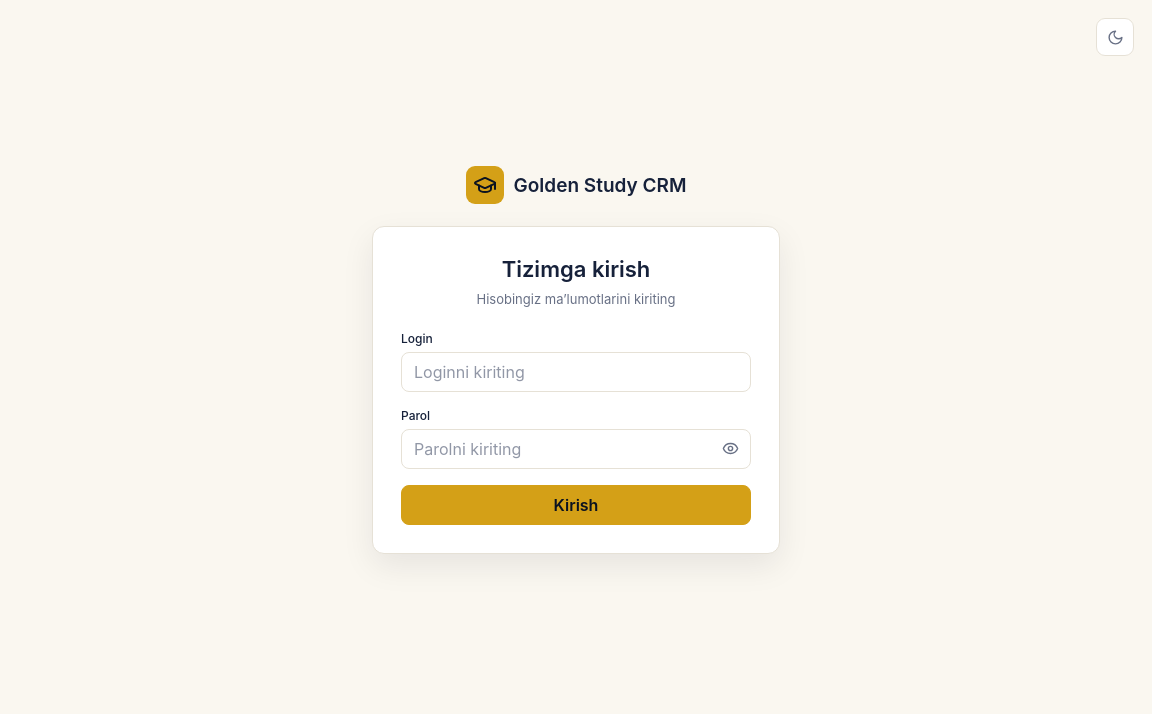
Test case: mock-авторизация › подтверждает отключение курса отдельно от редактирования
Type "admin" into the field labelled "Login" at (576, 372), box [401,352,751,392]
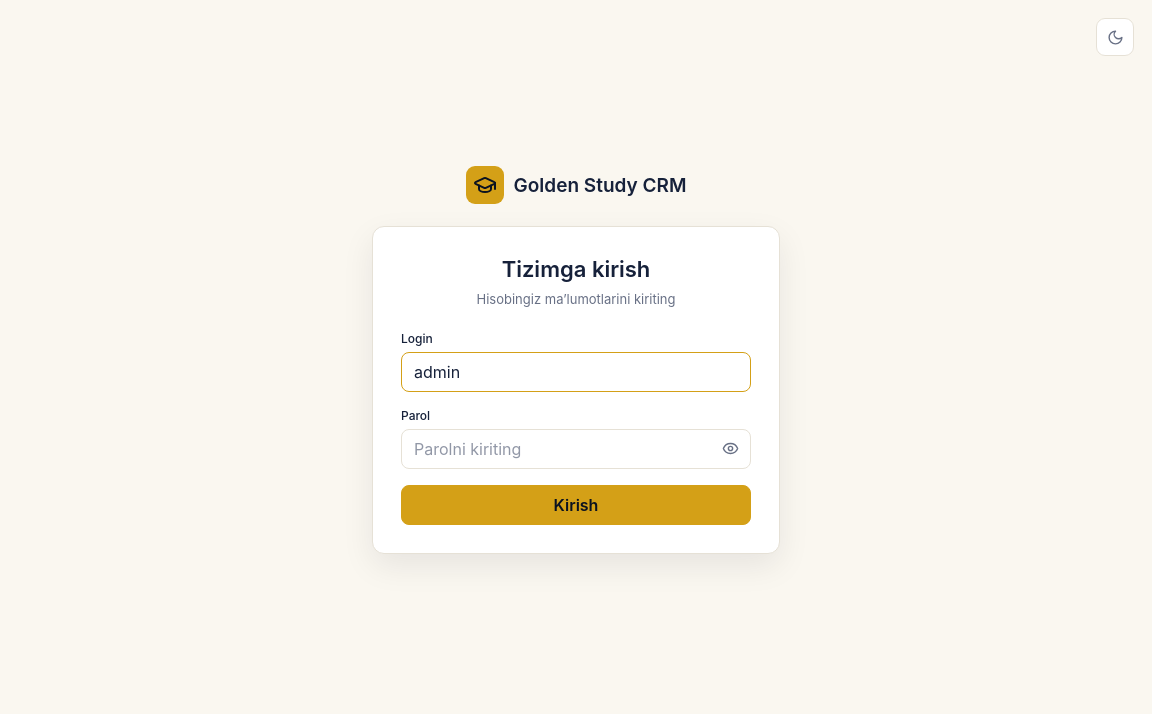
Type "admin123" into the password field labelled "Parol" at (576, 449), box [401,429,751,469]
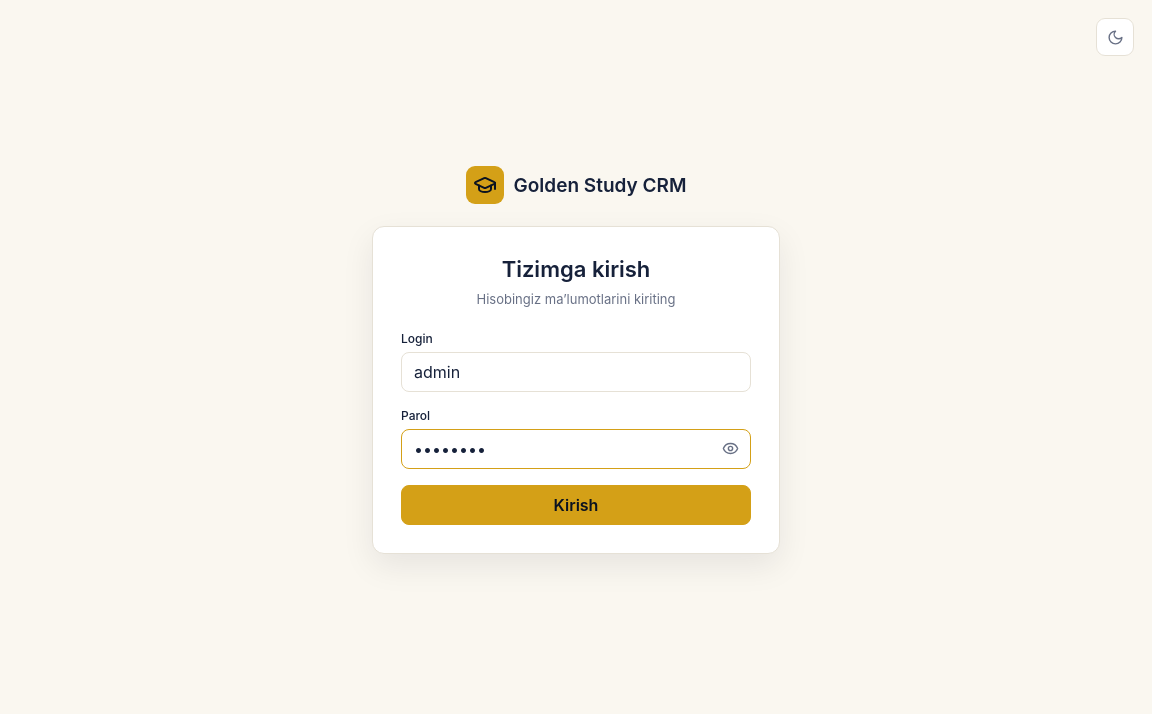
Click the button "Kirish" at (576, 505), box [401,485,751,525]
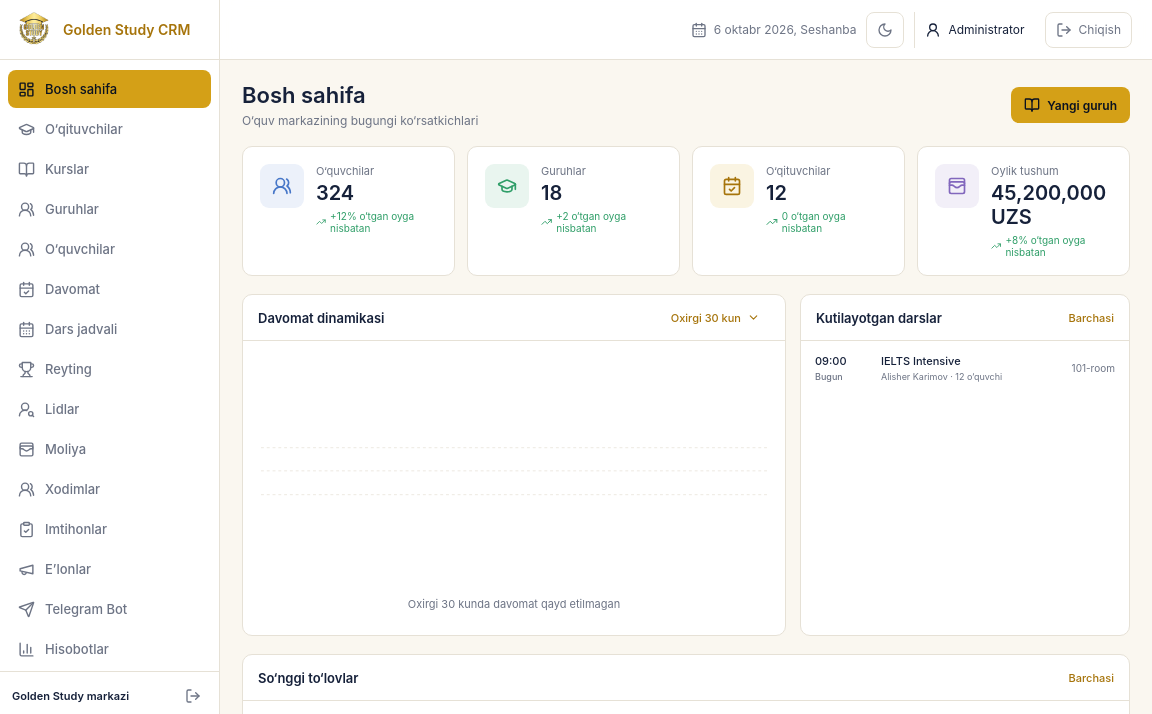
Click the link "Kurslar" at (54, 169), box [18,160,89,178]
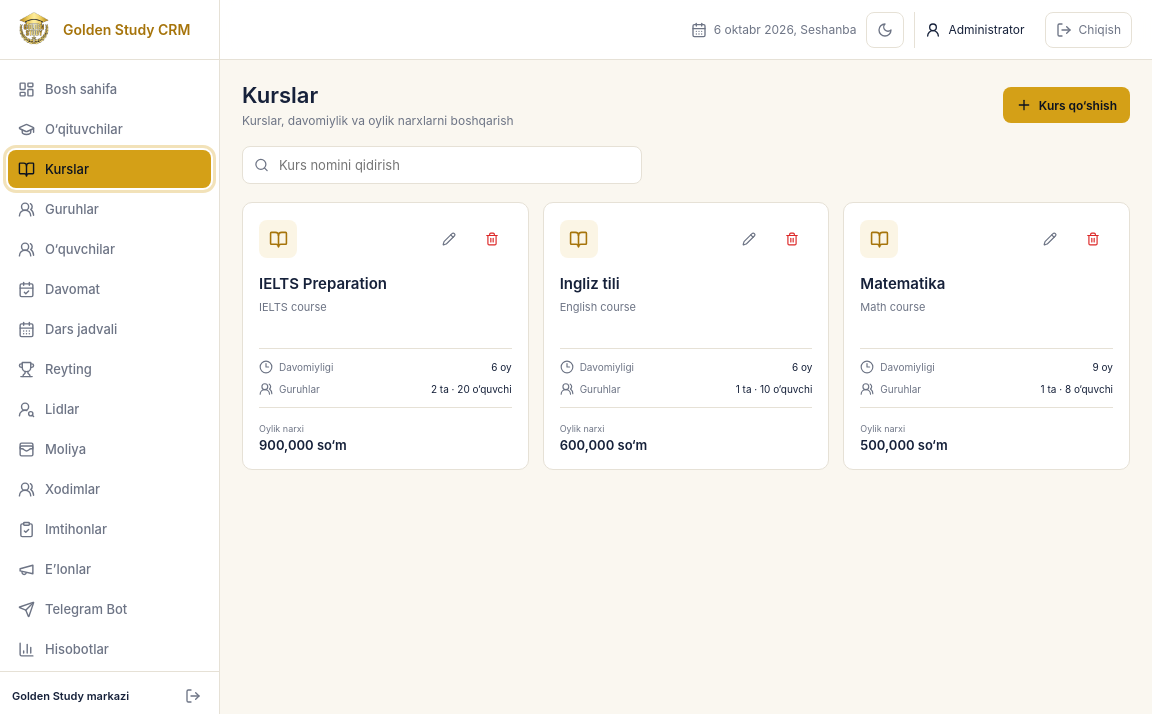
Check: the heading "IELTS Preparation" is shown, box [259,274,387,293]
Click the button named "IELTS Preparation kursini o‘chirish" at (492, 239), box [472,219,512,259]
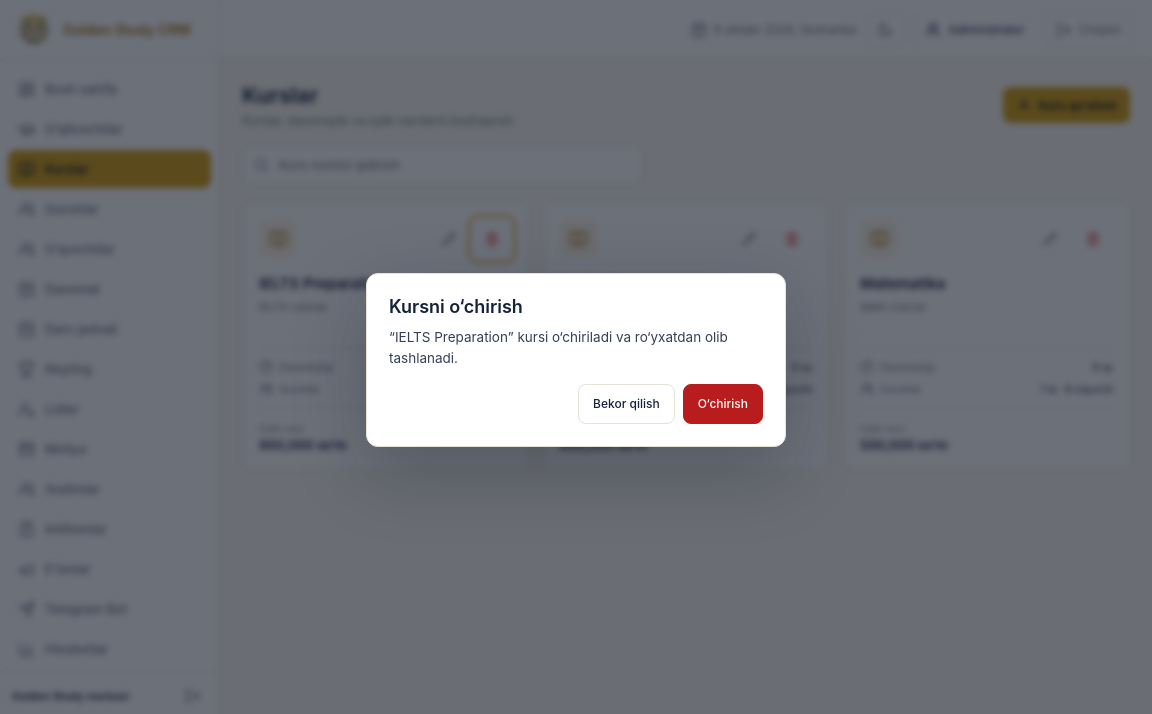
Check: the dialog "Kursni o‘chirish" is shown, box [366,273,786,447]
Click the button "Bekor qilish" at (626, 404), box [578,384,675,424]
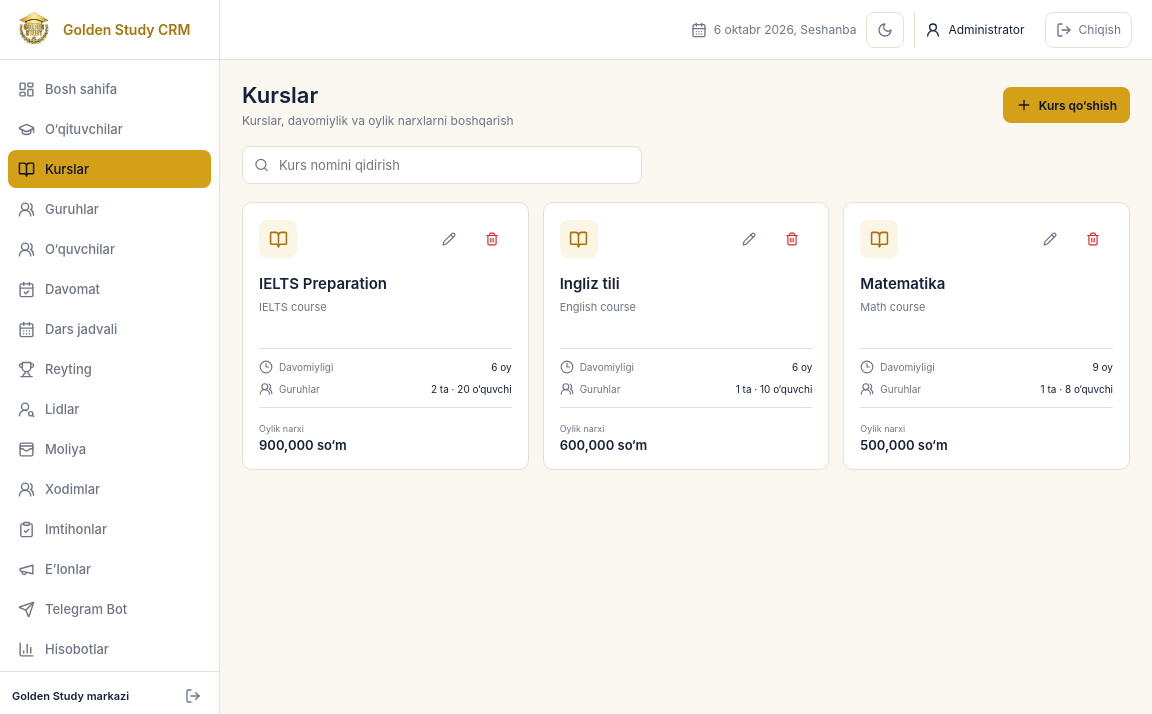
Check: the button named "IELTS Preparation kursini o‘chirish" is shown, box [472,219,512,259]
Check: the dialog is gone
